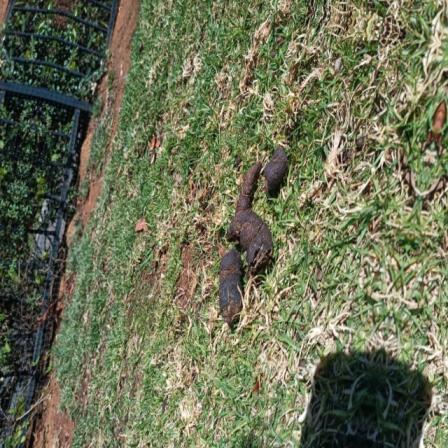dog-poop: (219, 145, 293, 322)
